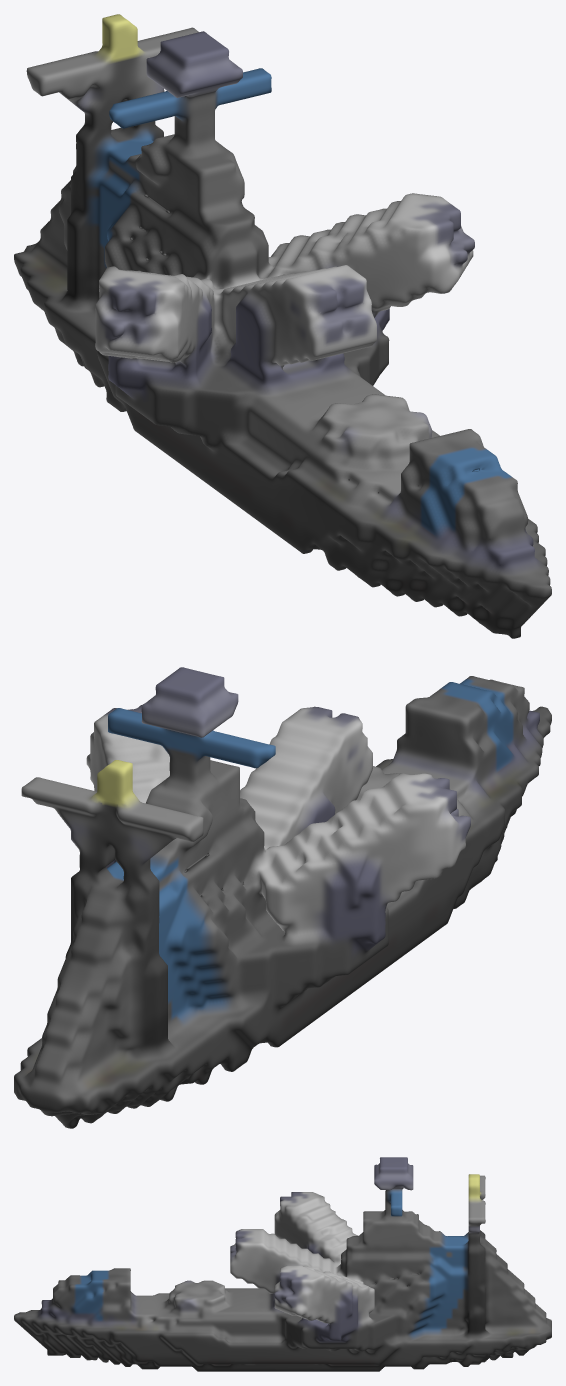
File: aegis_cruiser.glb
3 renders of one model, top to bottom at view 1: azimuth 30°, elevation 25°; view 2: azimuth 150°, elevation 25°; view 3: azimuth 270°, elevation 25°, orthographic. The views are drawn at different scales.
Parts seen in each view (by area): view 1: aegis_cruiser; view 2: aegis_cruiser; view 3: aegis_cruiser.
Part boxes in pixels (x1,y1,x2,y2): aegis_cruiser: [14, 14, 551, 638]; aegis_cruiser: [14, 667, 551, 1128]; aegis_cruiser: [14, 1157, 551, 1371].
Bounding box in the file's own units: 3.43 × 3.18 × 8.04.
